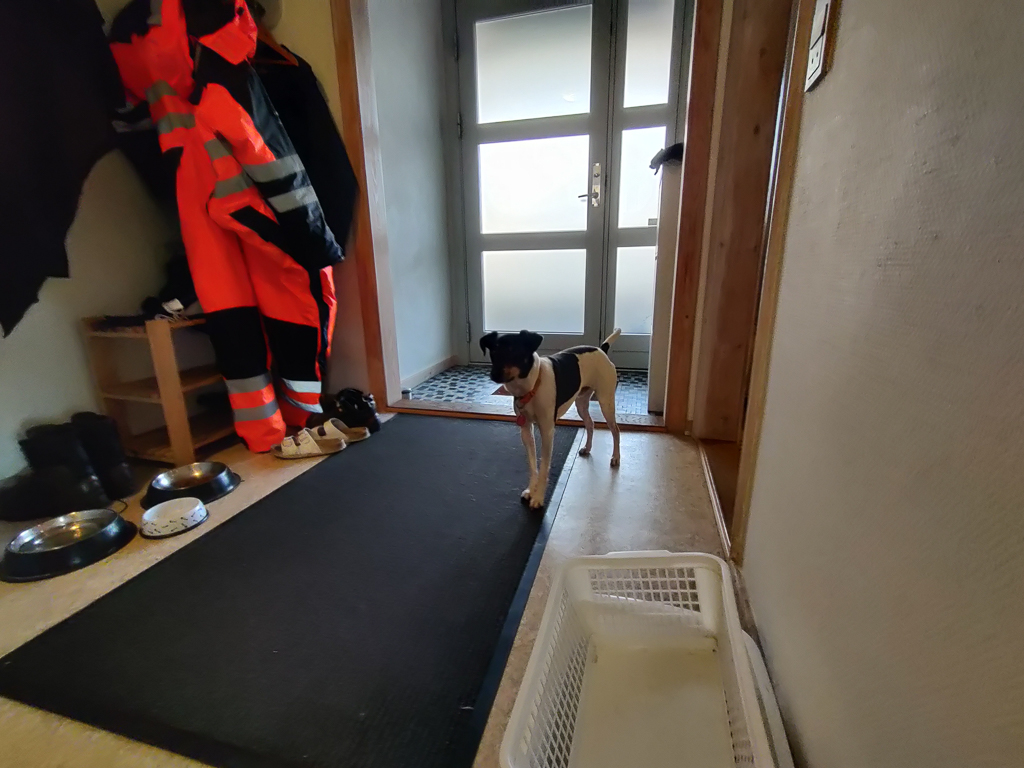Dog: (467, 308, 639, 519)
